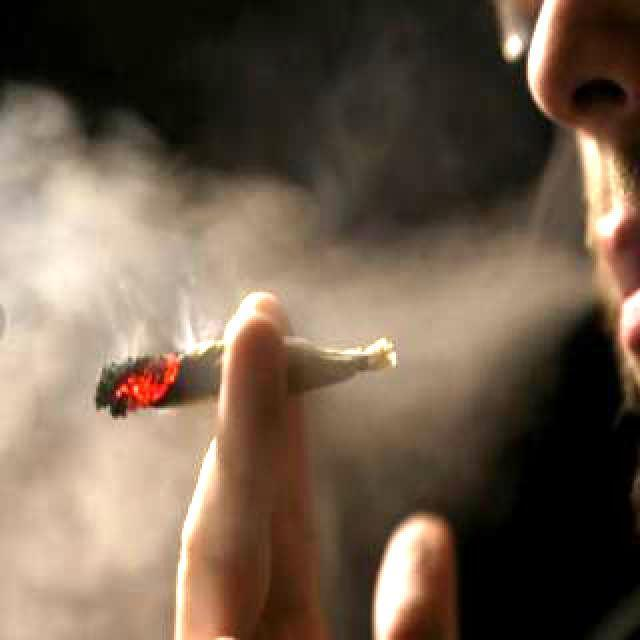Smoke: (9, 89, 605, 488)
